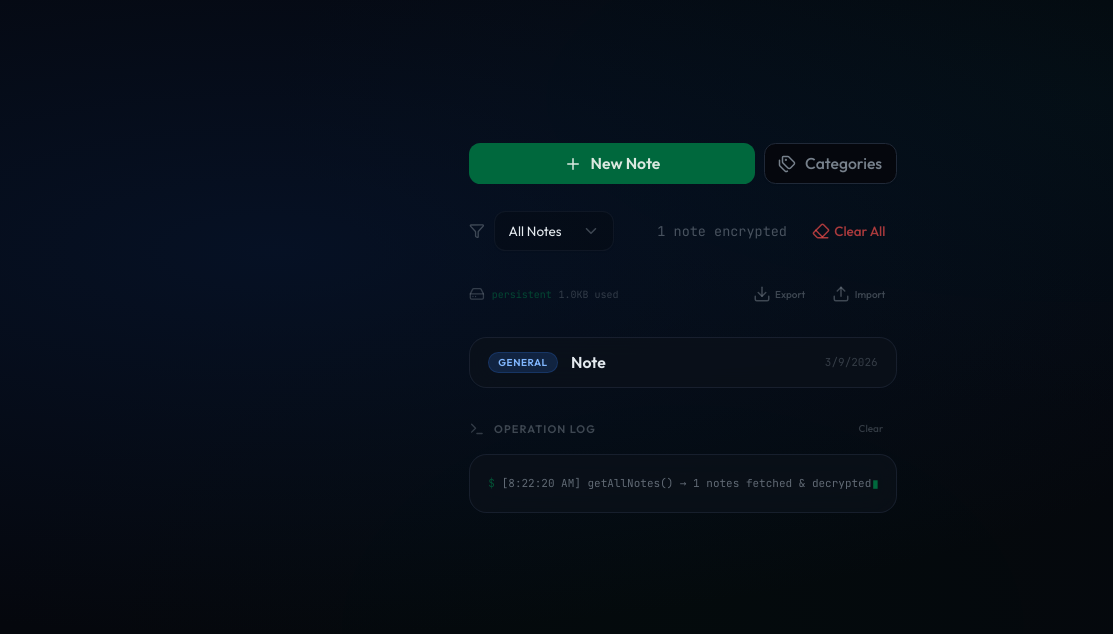
NotesApp › cancel edit returns to list view
# Click note to open detail view, then click edit
Click the heading "Note" at (588, 362), box [571,352,606,372]
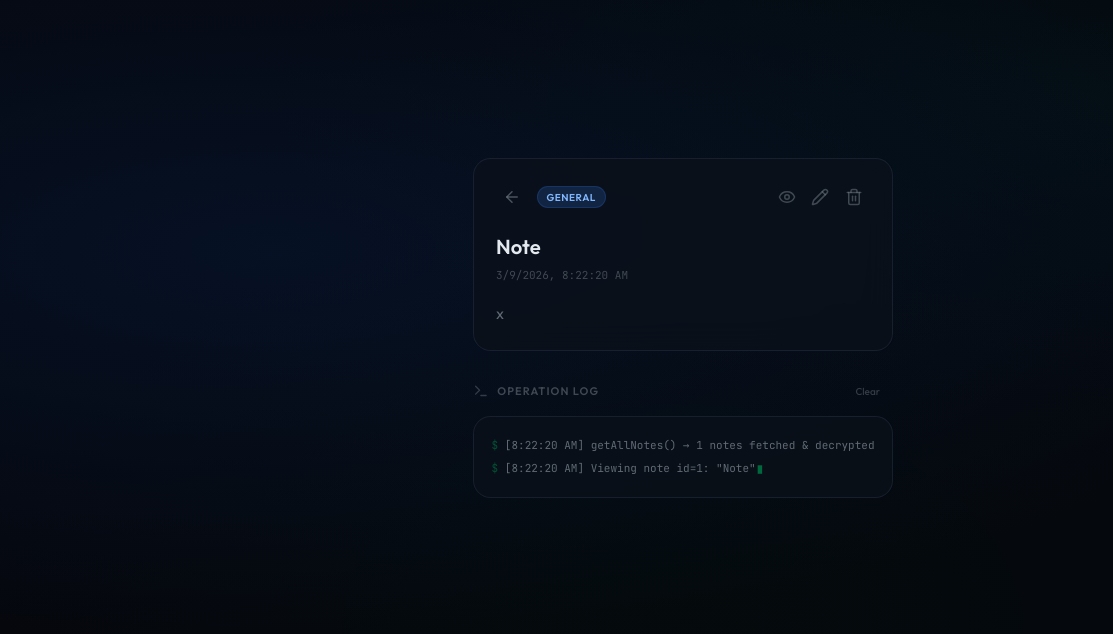
Check: the button titled "Edit" is shown
Click the button titled "Edit" at (820, 197), box [805,181,836,213]
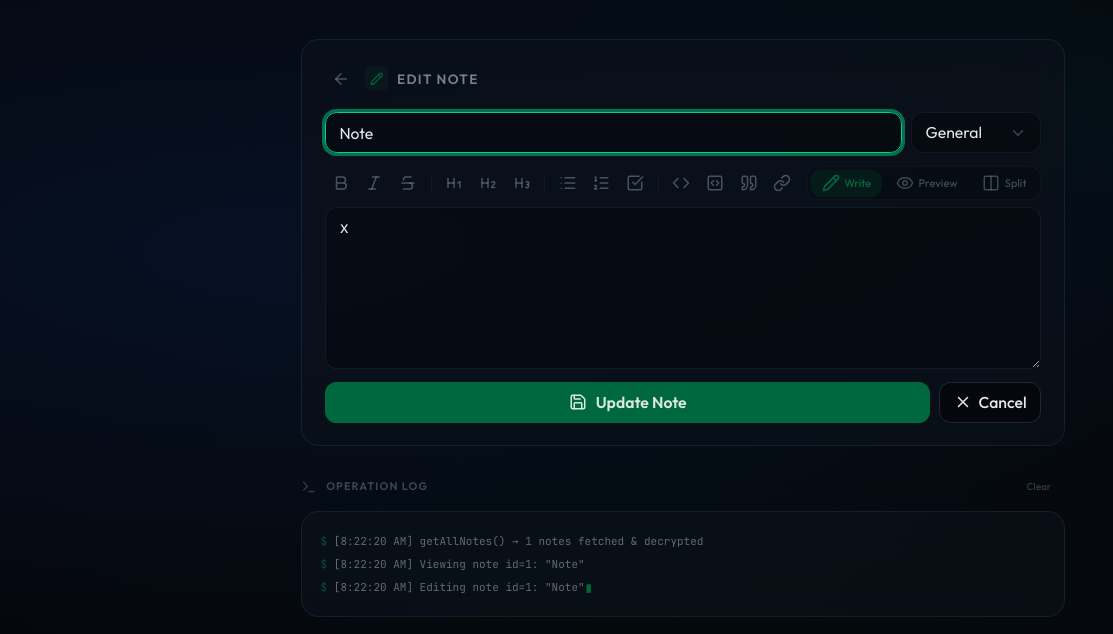
Check: the text "Edit Note" is shown, box [397,70,479,88]
Click the button "Cancel" at (990, 402), box [939,382,1041,422]
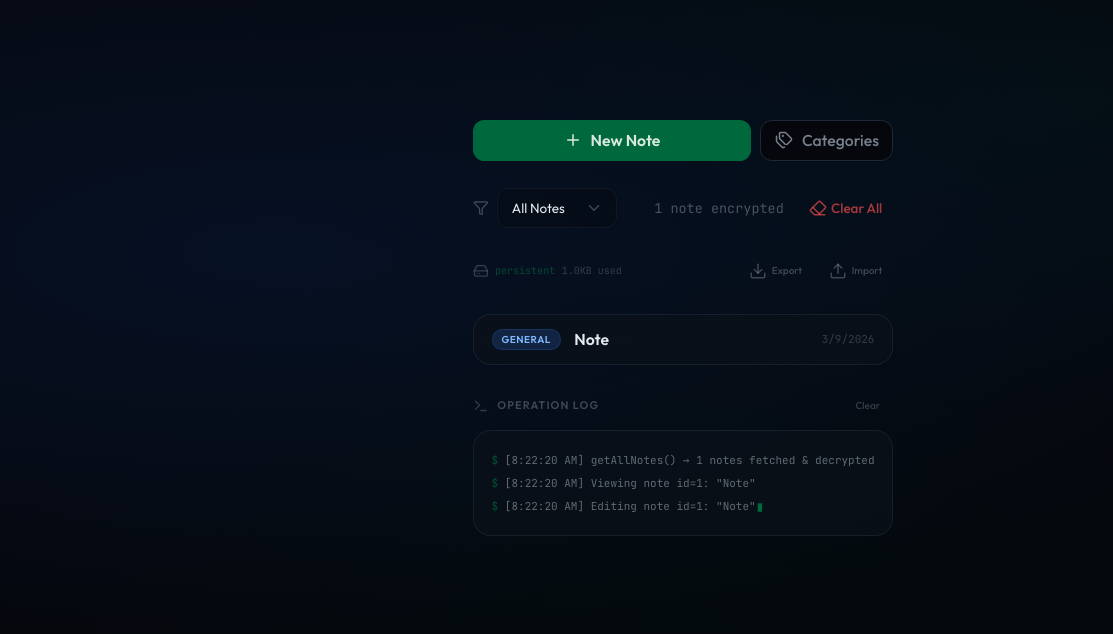
Check: the heading "Note" is shown, box [574,329,609,349]
Check: the button "New Note" is shown, box [472,120,752,161]
